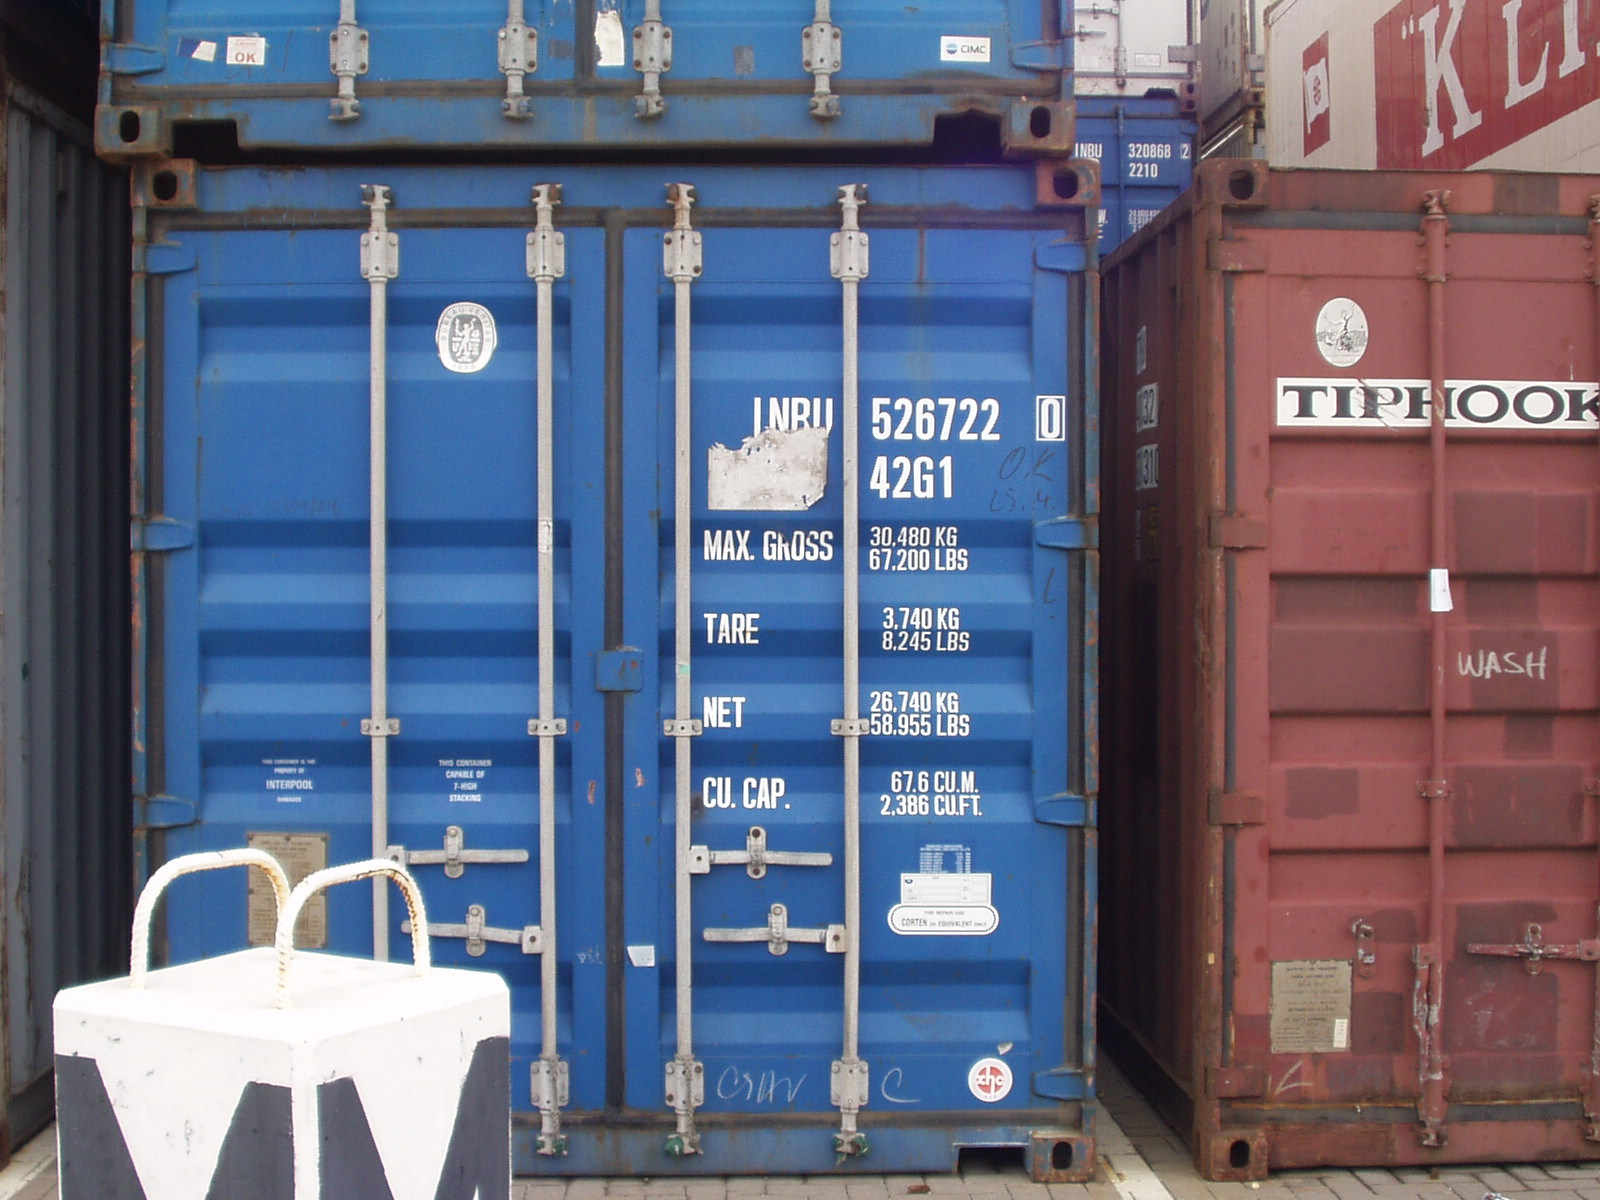container_door: (126, 153, 1107, 1181)
